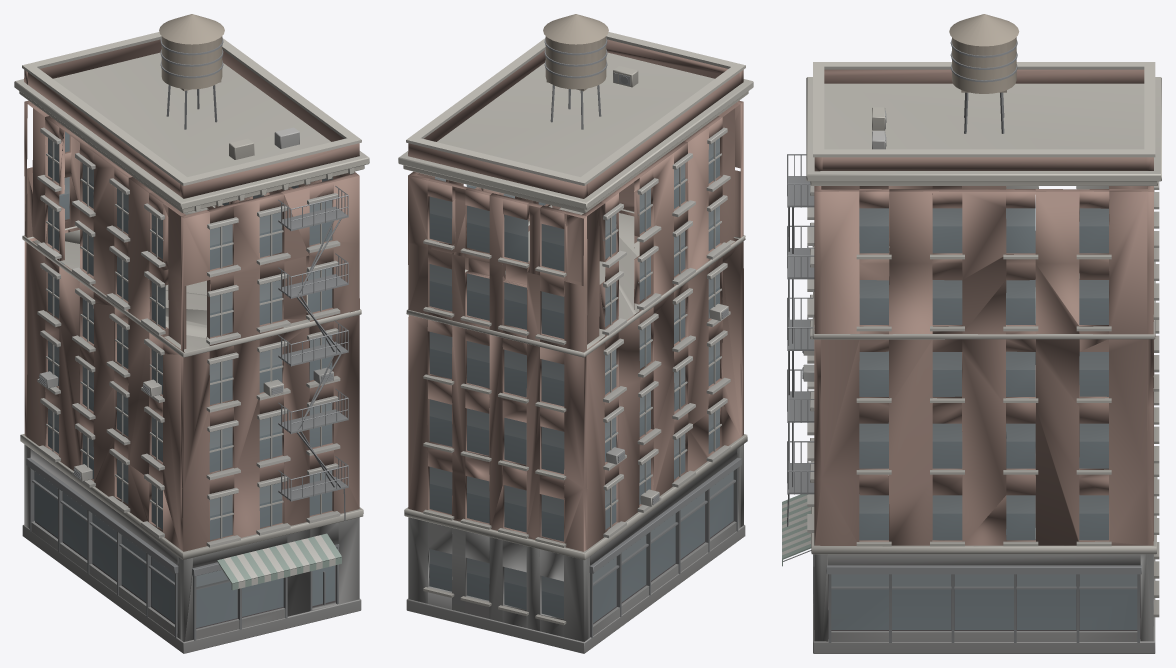
Rendered from cornerten.glb.
The picture shows the model from 3 angles, left to right: view 1: azimuth 30°, elevation 25°; view 2: azimuth 150°, elevation 25°; view 3: azimuth 270°, elevation 25°; orthographic projection. The views are drawn at different scales.
Bounding box in the file's own units: 8.76 × 24.32 × 14.11.
